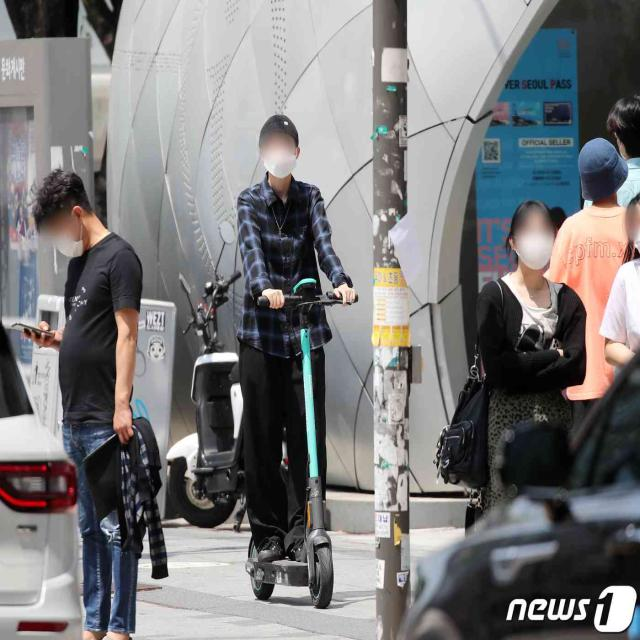non-helmet: (226, 106, 362, 608)
